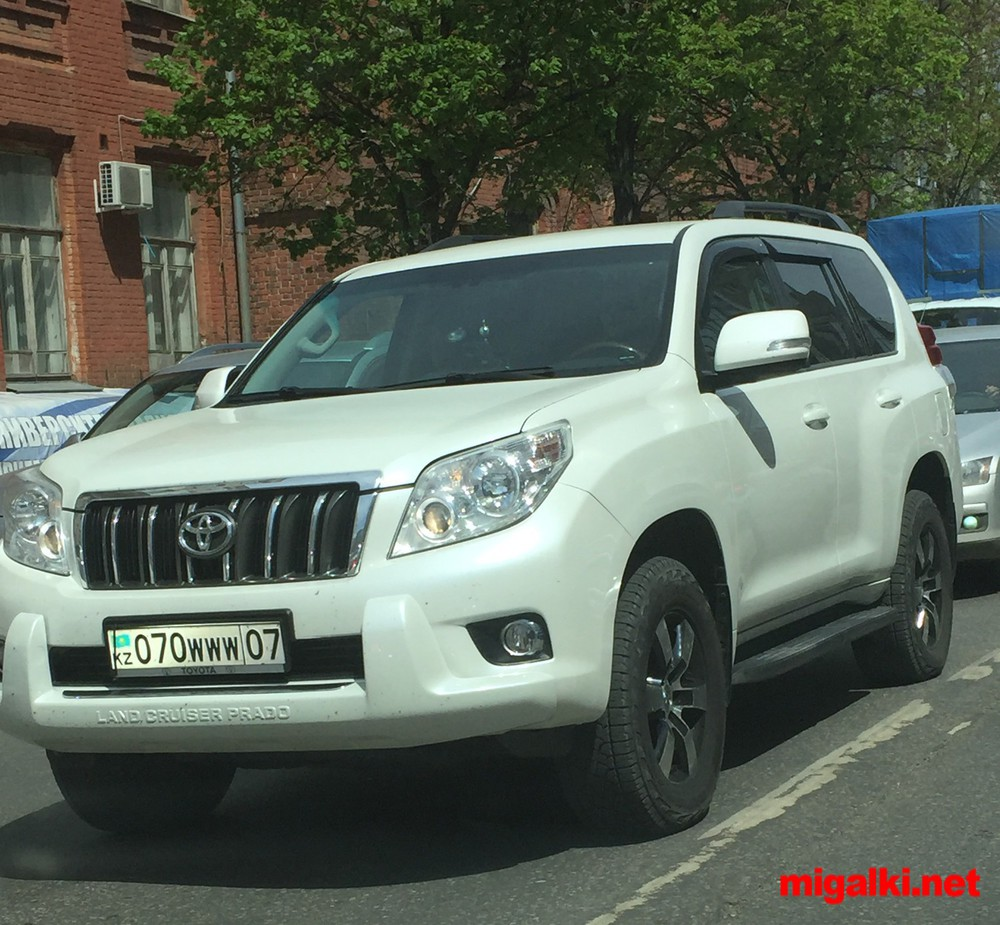license_plate: (101, 623, 290, 667)
